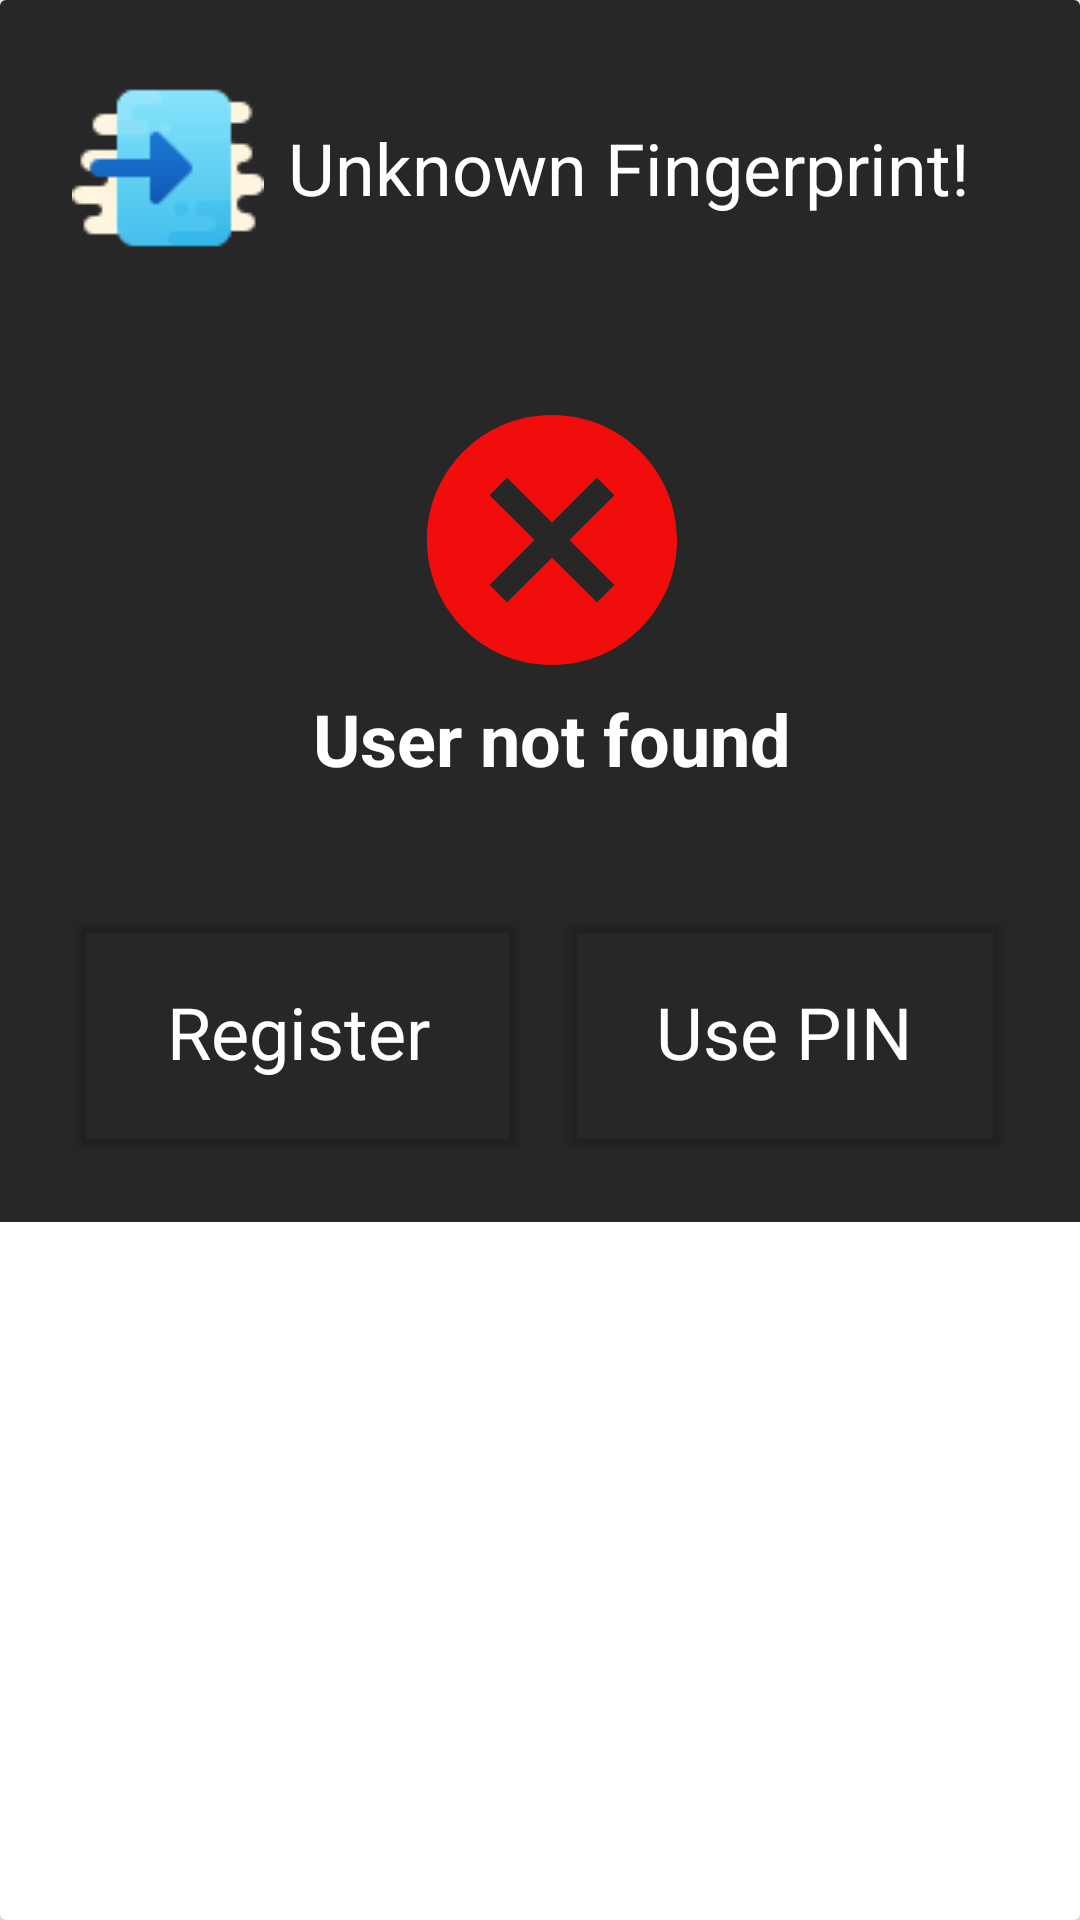

Icons on this 1080px×1920px Android screen, each with its box as (x1, y1, x2, y2):
cancel: (427, 415, 677, 665)
enter: (72, 89, 264, 247)
